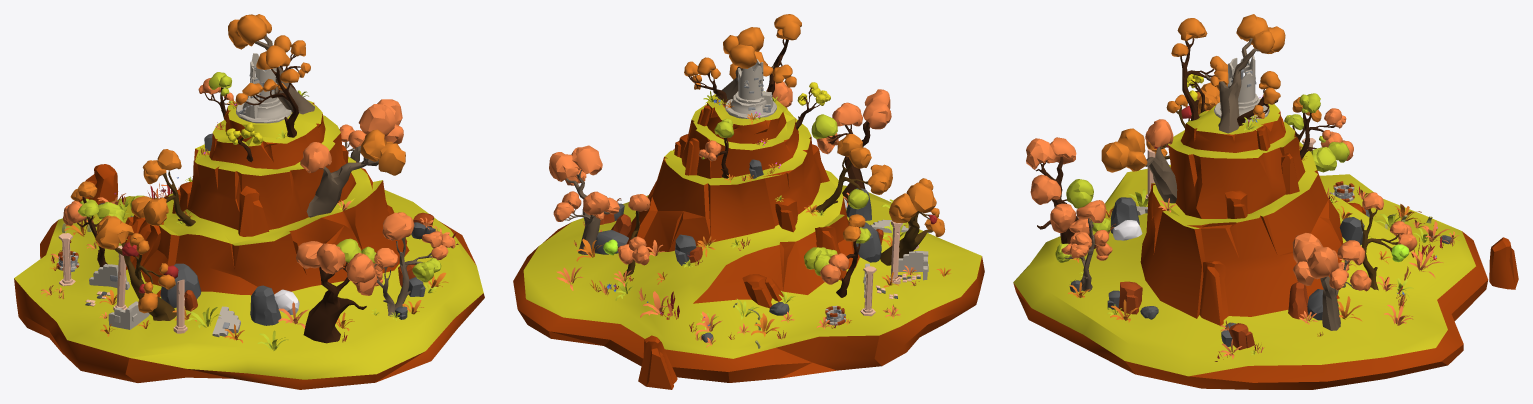
File: islands2-h5mvq3x3.glb
3 renders of one model, left to right at view 1: azimuth 30°, elevation 25°; view 2: azimuth 150°, elevation 25°; view 3: azimuth 270°, elevation 25°, orthographic. The views are drawn at different scales.
Visible parts, largest first — view 1: Plane.014_108, Cube.016_14, Cube.070_68, Cylinder.002_87, Mball.005_126, Mball.112_122, Mball.021_112, Mball.004_116, Cube.076_265, Mball.001_125, Icosphere.003_96, Mball.035_2 (+21 smaller); view 2: Plane.014_108, Cylinder.002_87, Mball.005_126, Cube.080_270, Mball.035_2, Mball.001_125, Mball.112_122, Mball.004_116, Cube.013_11, Mball.061_167, Cube.038_39, Cube.074_260 (+17 smaller); view 3: Plane.014_108, Mball.005_126, Cube.077_266, Mball.021_112, Cube.015_81, Mball.001_125, Cube.080_270, Cylinder.002_87, Mball.004_116, Mball.112_122, Cube.070_68, Cube.038_39 (+20 smaller).
Boxes of the visible parts, x1=… form: Plane.014_108: x1=14, y1=100, x2=484, y2=389; Cube.016_14: x1=303, y1=265, x2=366, y2=343; Cube.070_68: x1=306, y1=157, x2=378, y2=217; Cylinder.002_87: x1=236, y1=53, x2=291, y2=123; Mball.005_126: x1=358, y1=99, x2=403, y2=143; Mball.112_122: x1=236, y1=45, x2=299, y2=104; Mball.021_112: x1=360, y1=129, x2=405, y2=175; Mball.004_116: x1=296, y1=241, x2=345, y2=274; Cube.076_265: x1=238, y1=186, x2=269, y2=236; Mball.001_125: x1=228, y1=14, x2=271, y2=49; Icosphere.003_96: x1=250, y1=285, x2=281, y2=325; Mball.035_2: x1=95, y1=215, x2=133, y2=249; Plane.014_108: x1=513, y1=91, x2=984, y2=382; Cylinder.002_87: x1=725, y1=59, x2=776, y2=118; Mball.005_126: x1=549, y1=145, x2=602, y2=185; Cube.080_270: x1=638, y1=335, x2=677, y2=389; Mball.035_2: x1=889, y1=182, x2=936, y2=222; Mball.001_125: x1=723, y1=27, x2=764, y2=68; Mball.112_122: x1=763, y1=14, x2=801, y2=87; Mball.004_116: x1=863, y1=89, x2=891, y2=129; Cube.013_11: x1=880, y1=211, x2=933, y2=265; Mball.061_167: x1=837, y1=134, x2=871, y2=168; Cube.038_39: x1=565, y1=170, x2=609, y2=254; Cube.074_260: x1=742, y1=274, x2=772, y2=308; Plane.014_108: x1=1013, y1=99, x2=1488, y2=389; Mball.005_126: x1=1292, y1=233, x2=1338, y2=285; Cube.077_266: x1=1199, y1=261, x2=1228, y2=325; Mball.021_112: x1=1101, y1=128, x2=1147, y2=172; Cube.015_81: x1=1205, y1=38, x2=1259, y2=133; Mball.001_125: x1=1236, y1=14, x2=1285, y2=53; Cube.080_270: x1=1489, y1=237, x2=1518, y2=289; Cylinder.002_87: x1=1214, y1=55, x2=1269, y2=122; Mball.004_116: x1=1026, y1=137, x2=1076, y2=169; Mball.112_122: x1=1171, y1=18, x2=1228, y2=86; Cube.070_68: x1=1145, y1=146, x2=1177, y2=203; Cube.038_39: x1=1320, y1=276, x2=1340, y2=330.
Bounding box in the file's own units: 142 × 94.32 × 150.
